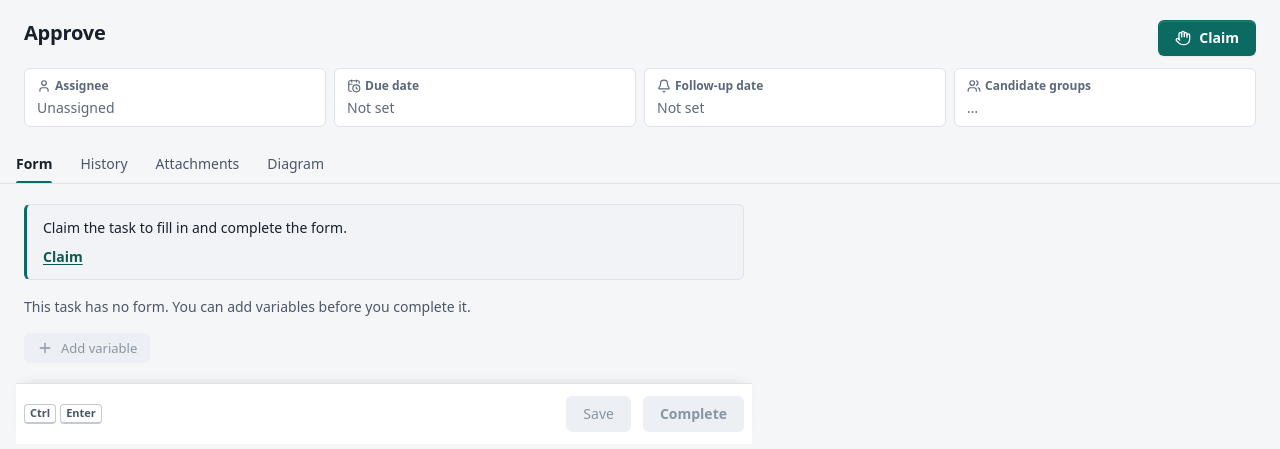
Scenario: completing a task whose claim is under way › enables Complete once the claim is made
Later steps or results of the test are not shown.
Expected: the button "Complete" is disabled, [643,396,744,432]
What coordinates should you click on to do the following:
click the button "Claim" in the row of "Approve"
I would click on:
 (1207, 38)
Its box is [1158,20,1256,56].
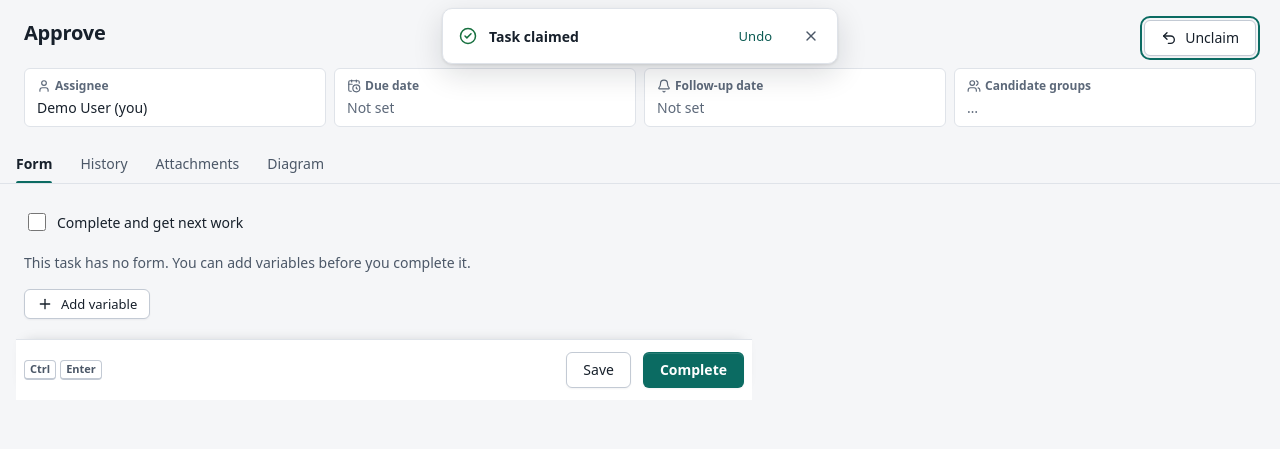
Expected: the button "Unclaim" is shown, [1144,20,1256,56]
Expected: the button "Complete" is enabled, [643,352,744,388]
